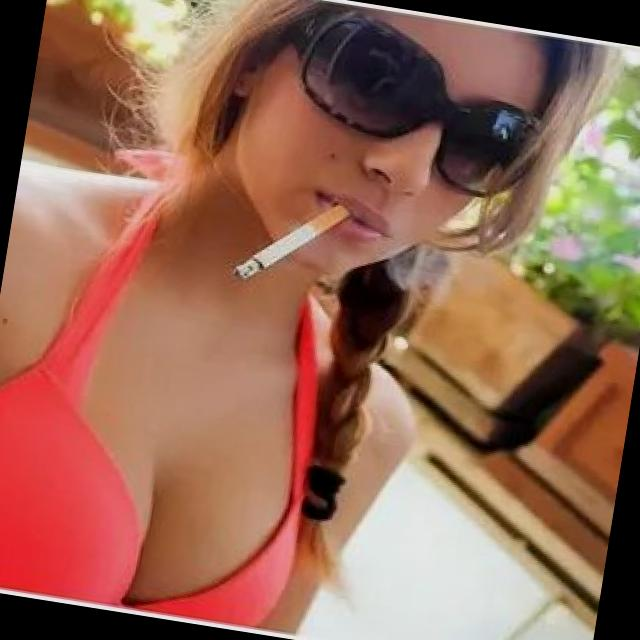smoke: (225, 186, 357, 299)
